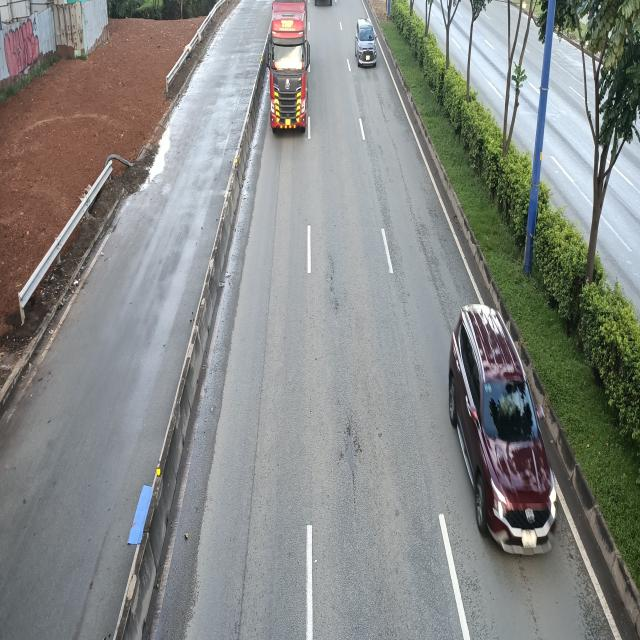car: (447, 299, 556, 553), (354, 19, 377, 66)
container: (267, 1, 312, 136)
